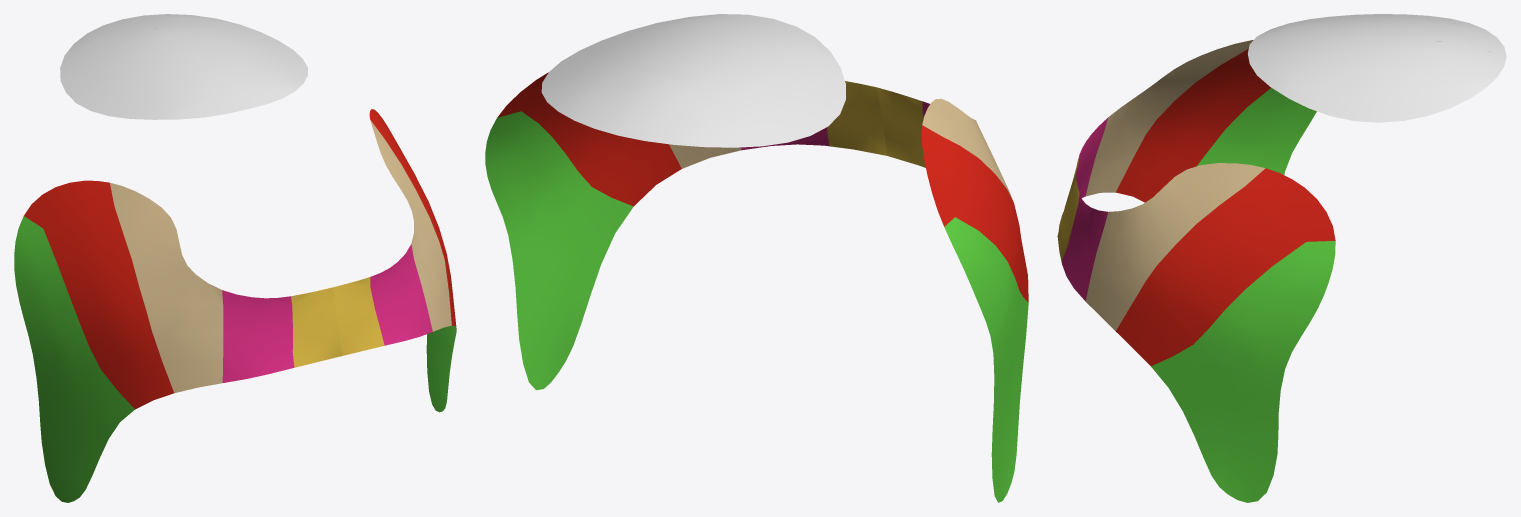
Rendered from Phase_2.dae.
The picture shows the model from 3 angles, left to right: view 1: azimuth 30°, elevation 25°; view 2: azimuth 150°, elevation 25°; view 3: azimuth 270°, elevation 25°; orthographic projection. The views are drawn at different scales.
Parts seen in each view (by area): view 1: Top_phase2, Lob_right_phase2.4, Lob_right_phase2.5, Lob_right_phase2.3, Lob_right_phase2.2, Lob_left_phase2.3, Lob_left_phase2.2, Lob_right_phase2.1, Lob_left_phase2.1, Lob_left_phase2.5, Lob_left_phase2.4; view 2: Top_phase2, Lob_left_phase2.5, Lob_right_phase2.5, Lob_left_phase2.4, Lob_right_phase2.4, Lob_left_phase2.1, Lob_right_phase2.1, Lob_right_phase2.3, Lob_left_phase2.3; view 3: Lob_left_phase2.5, Top_phase2, Lob_left_phase2.4, Lob_left_phase2.3, Lob_right_phase2.4, Lob_right_phase2.3, Lob_right_phase2.5, Lob_left_phase2.2, Lob_right_phase2.2, Lob_left_phase2.1.
Part boxes in pixels (bbox=[...]): Top_phase2: bbox=[60, 14, 307, 119]; Lob_right_phase2.4: bbox=[24, 180, 173, 409]; Lob_right_phase2.5: bbox=[14, 216, 134, 502]; Lob_right_phase2.3: bbox=[110, 182, 223, 393]; Lob_right_phase2.2: bbox=[222, 290, 294, 382]; Lob_left_phase2.3: bbox=[370, 119, 451, 331]; Lob_left_phase2.2: bbox=[370, 244, 432, 345]; Lob_right_phase2.1: bbox=[291, 287, 341, 367]; Lob_left_phase2.1: bbox=[332, 277, 384, 356]; Lob_left_phase2.5: bbox=[426, 325, 456, 412]; Lob_left_phase2.4: bbox=[369, 109, 456, 328]; Top_phase2: bbox=[541, 14, 845, 147]; Lob_left_phase2.5: bbox=[485, 111, 633, 390]; Lob_right_phase2.5: bbox=[944, 217, 1028, 502]; Lob_left_phase2.4: bbox=[497, 72, 681, 206]; Lob_right_phase2.4: bbox=[921, 125, 1028, 302]; Lob_left_phase2.1: bbox=[827, 81, 886, 155]; Lob_right_phase2.1: bbox=[876, 87, 925, 167]; Lob_right_phase2.3: bbox=[922, 98, 1013, 201]; Lob_left_phase2.3: bbox=[669, 144, 741, 168]; Lob_left_phase2.5: bbox=[1151, 241, 1335, 502]; Top_phase2: bbox=[1247, 14, 1506, 122]; Lob_left_phase2.4: bbox=[1116, 168, 1335, 366]; Lob_left_phase2.3: bbox=[1085, 163, 1265, 331]; Lob_right_phase2.4: bbox=[1116, 48, 1270, 202]; Lob_right_phase2.3: bbox=[1086, 40, 1253, 196]; Lob_right_phase2.5: bbox=[1196, 88, 1316, 174]; Lob_left_phase2.2: bbox=[1061, 194, 1108, 301]; Lob_right_phase2.2: bbox=[1062, 117, 1108, 215]; Lob_left_phase2.1: bbox=[1057, 174, 1079, 261].
Bounding box in the file's own units: 13.66 × 13.01 × 11.84.
